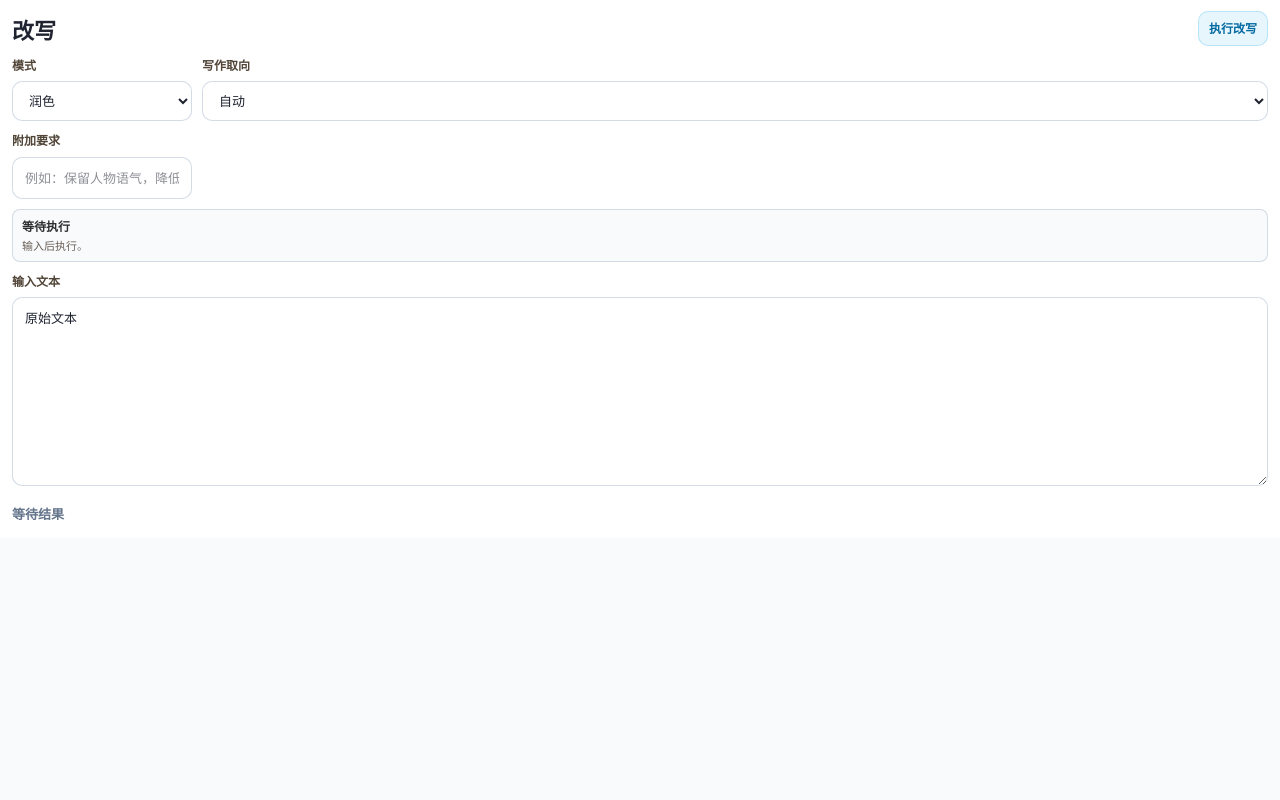
Test case: RewriteWorkbenchTool › shows unified offline message when ai service is unavailable
Step 1. Click the button with class "tool-panel__primary" → (1233, 29), box [1198,11,1268,46]
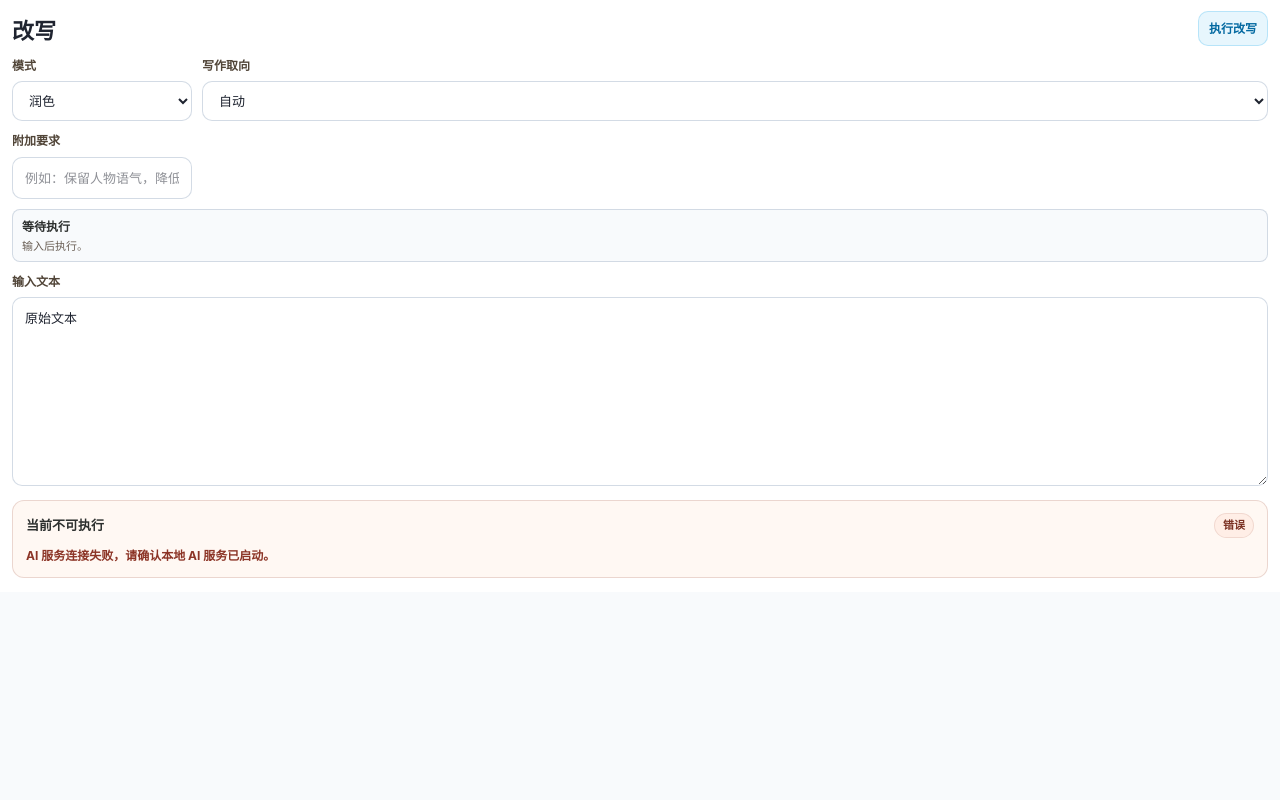
Expected: the message with class "tool-state-card--error" shows "AI 服务连接失败，请确认本地 AI 服务已启动。", [26,548,275,563]
